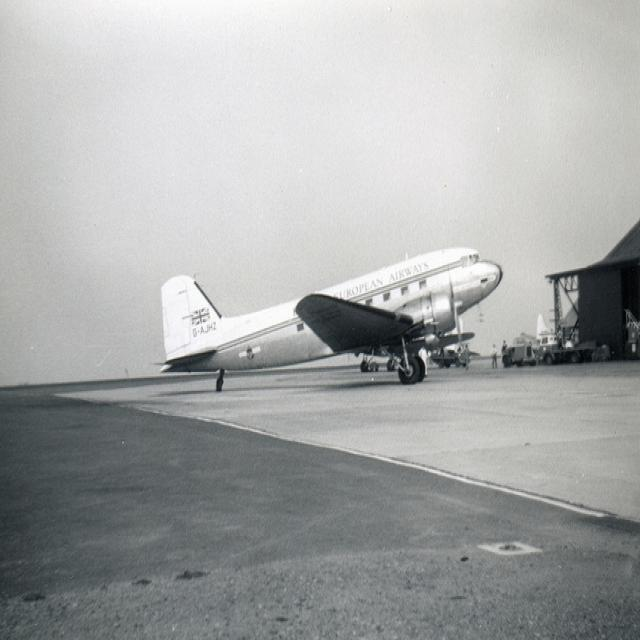airplane: (148, 242, 504, 393)
